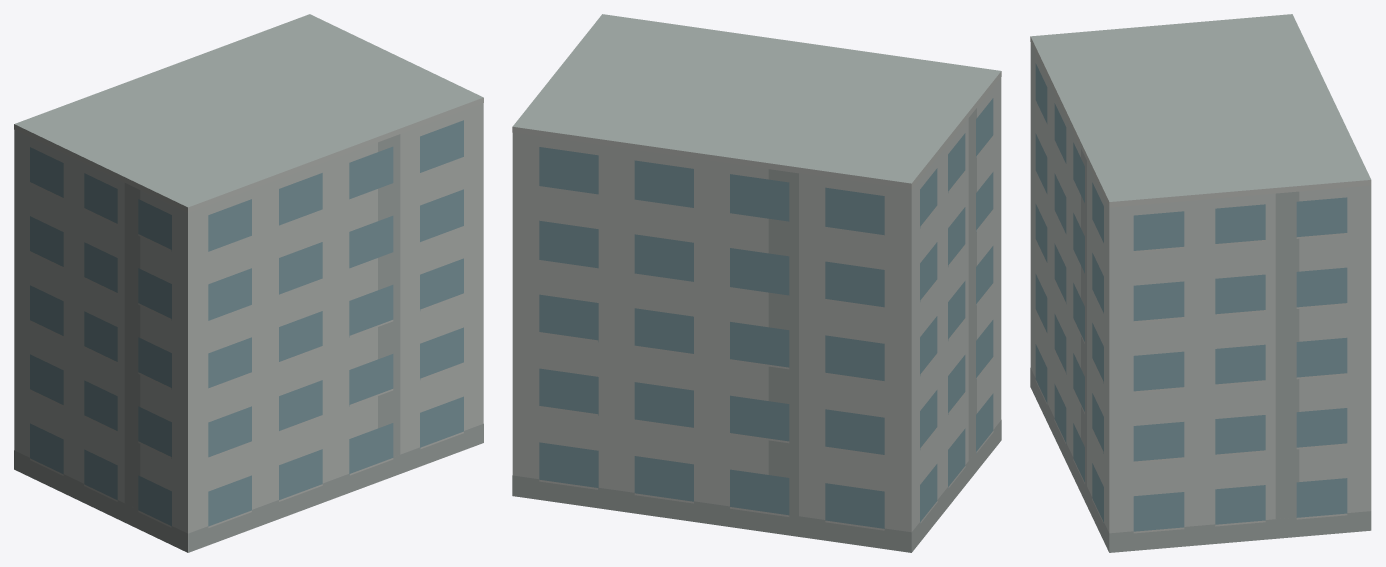
File: residential-b1076444-0f4b-4a9b-aff6-d0e178f500c2.glb
The picture shows the model from 3 angles, left to right: view 1: azimuth 30°, elevation 25°; view 2: azimuth 150°, elevation 25°; view 3: azimuth 270°, elevation 25°; orthographic projection. The views are drawn at different scales.
Visible parts, largest first — view 1: residential-b1076444-0f4b-4a9b-aff6-d0e178f500c2.tmp; view 2: residential-b1076444-0f4b-4a9b-aff6-d0e178f500c2.tmp; view 3: residential-b1076444-0f4b-4a9b-aff6-d0e178f500c2.tmp.
Part boxes in pixels (x1=…): residential-b1076444-0f4b-4a9b-aff6-d0e178f500c2.tmp: x1=14, y1=14, x2=483, y2=552; residential-b1076444-0f4b-4a9b-aff6-d0e178f500c2.tmp: x1=512, y1=14, x2=1001, y2=552; residential-b1076444-0f4b-4a9b-aff6-d0e178f500c2.tmp: x1=1030, y1=14, x2=1371, y2=552.
Size of the model in its own units: 17.54 by 15.25 by 13.44.
